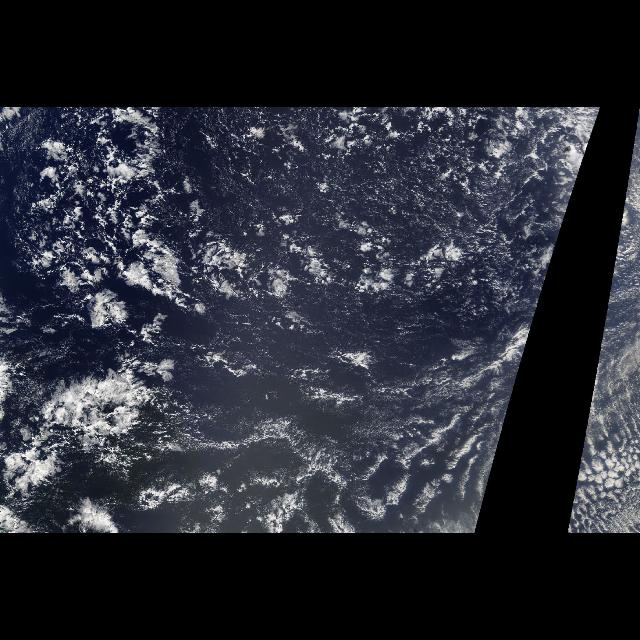Flower: (23, 128, 223, 478)
Gravel: (192, 112, 590, 532), (23, 108, 191, 344), (568, 408, 590, 524)
Sugar: (228, 304, 508, 410), (208, 154, 477, 233)
